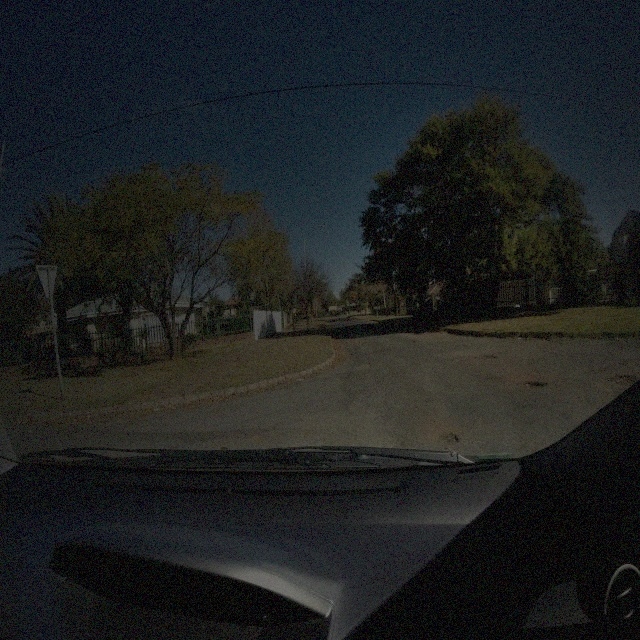pothole: (607, 372, 638, 389), (519, 378, 548, 392), (472, 351, 498, 364), (440, 429, 459, 446)
